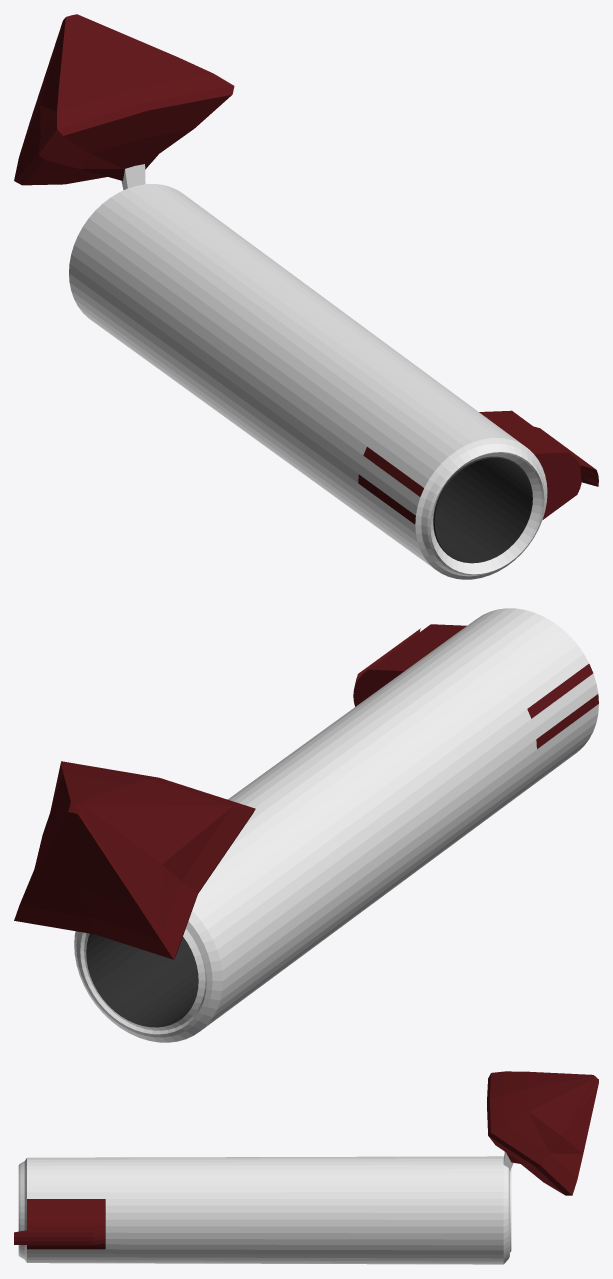
Rendered from Rocket1.fbx.
3 views of the same model, one above another, from view 1: azimuth 30°, elevation 25°; view 2: azimuth 150°, elevation 25°; view 3: azimuth 270°, elevation 25° (orthographic). The views are drawn at different scales.
Parts seen in each view (by area): view 1: Torus; view 2: Torus; view 3: Torus.
Part boxes in pixels (bbox=[...]): Torus: bbox=[14, 14, 598, 579]; Torus: bbox=[14, 608, 598, 1042]; Torus: bbox=[14, 1071, 598, 1264].
Size of the model in its own units: 486 by 624 by 1806.
